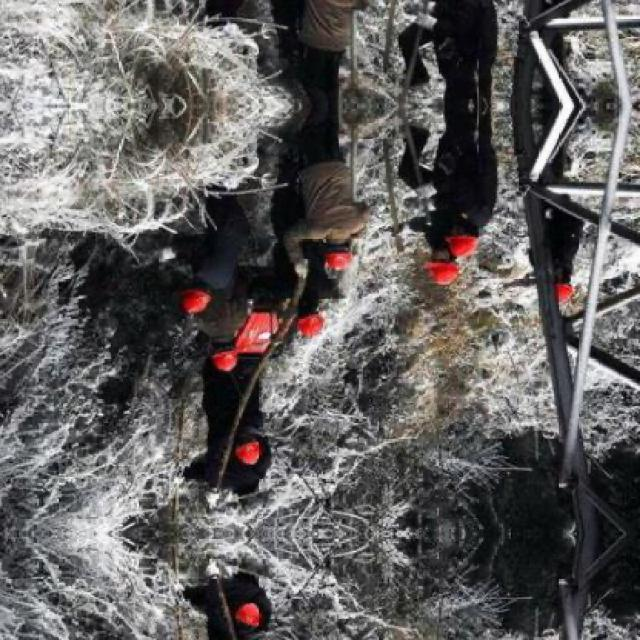con casco: (167, 299, 270, 359), (412, 224, 505, 282), (216, 432, 287, 466), (308, 247, 353, 274), (290, 303, 330, 332)
